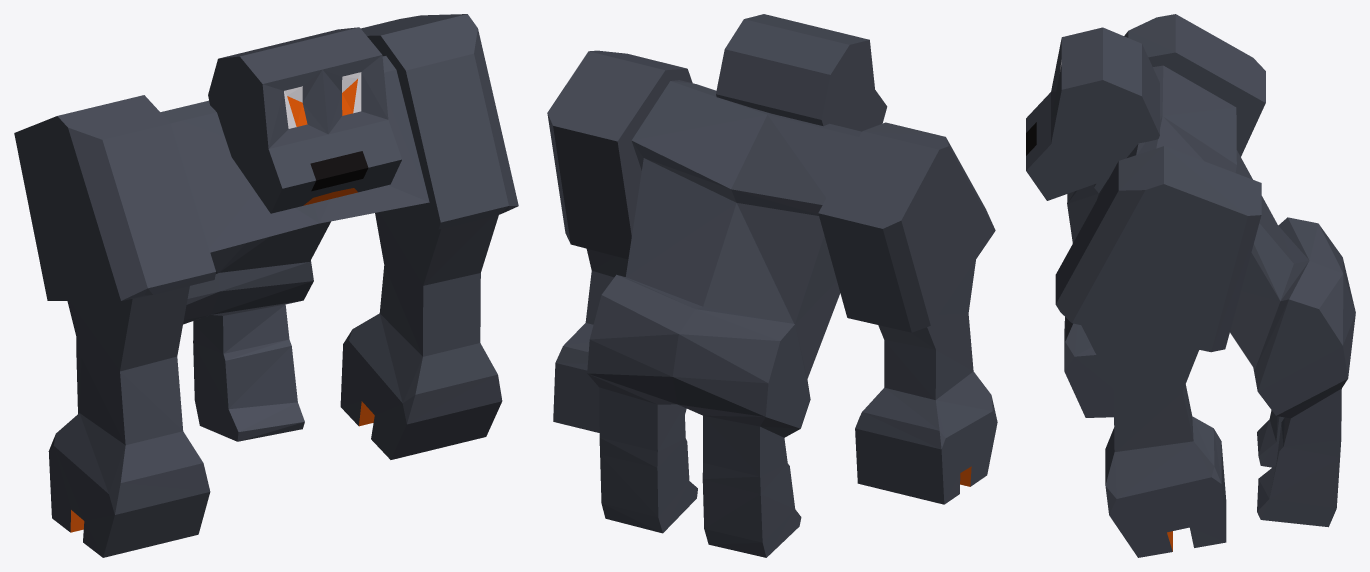
File: kong_000007.obj
3 renders of one model, left to right at view 1: azimuth 30°, elevation 25°; view 2: azimuth 150°, elevation 25°; view 3: azimuth 270°, elevation 25°, orthographic. The views are drawn at different scales.
Parts seen in each view (by area): view 1: Cube; view 2: Cube; view 3: Cube.
Part boxes in pixels (<box>): Cube: <box>14,14,518,557</box>; Cube: <box>547,14,997,557</box>; Cube: <box>1026,14,1355,557</box>.
Size of the model in its own units: 5.84 by 6.49 by 4.47.
Materials: 1 (1 with a texture image).
